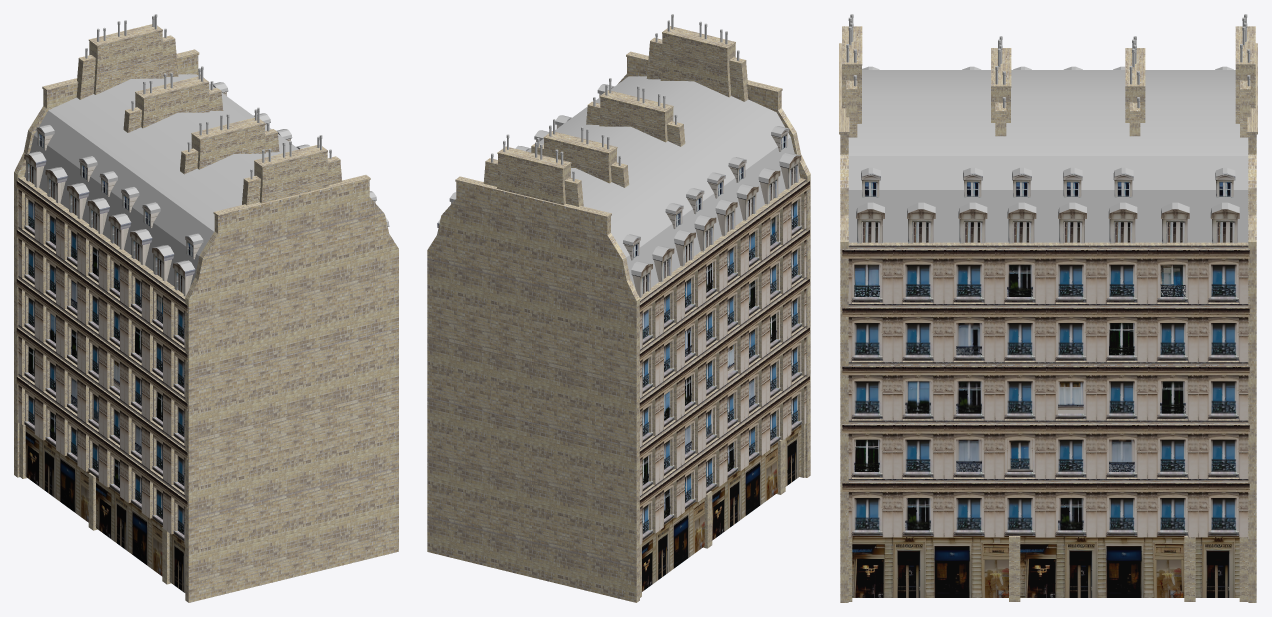
File: BuildingC.fbx
3 views of the same model, side by side, from view 1: azimuth 30°, elevation 25°; view 2: azimuth 150°, elevation 25°; view 3: azimuth 270°, elevation 25° (orthographic). The views are drawn at different scales.
Parts seen in each view (by area): view 1: pPlane441; view 2: pPlane441; view 3: pPlane441.
Boxes of the visible parts, bbox=[...] form: pPlane441: bbox=[14, 14, 398, 602]; pPlane441: bbox=[427, 14, 810, 602]; pPlane441: bbox=[839, 14, 1257, 602].
Bounding box in the file's own units: 303 × 592 × 437.
